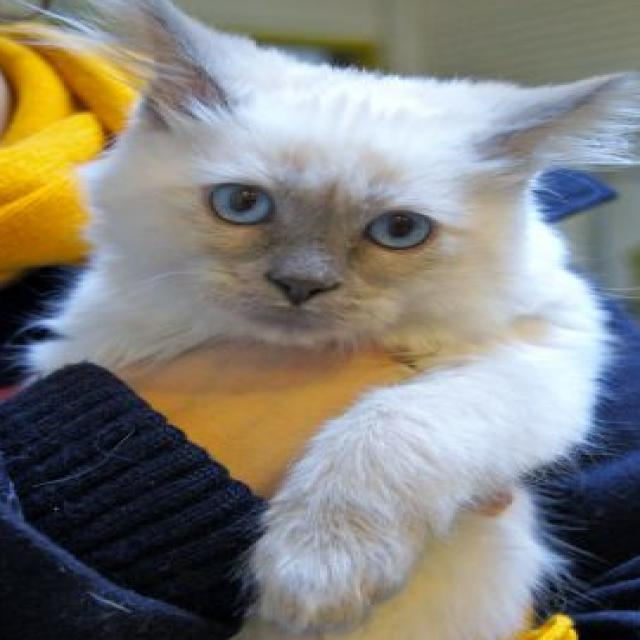Ragdoll: (21, 0, 640, 640)
